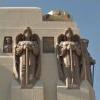Statue: (52, 23, 89, 89)
